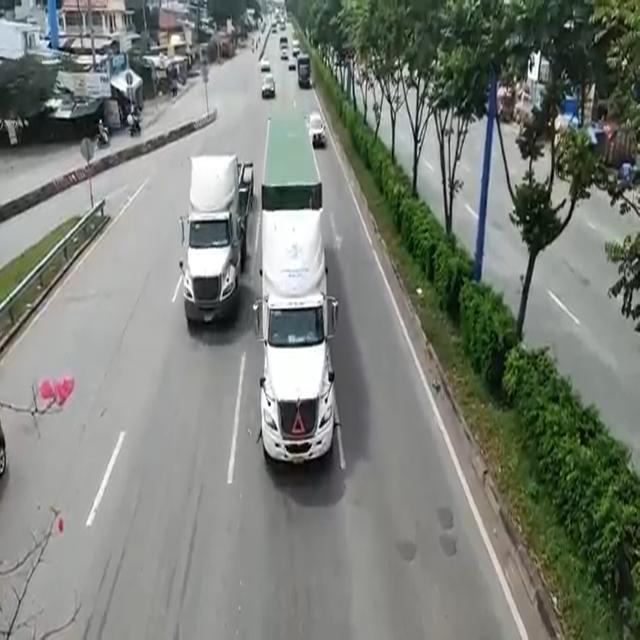car: (309, 109, 324, 140), (261, 78, 275, 103)
truck: (265, 125, 312, 477), (190, 151, 247, 327)
